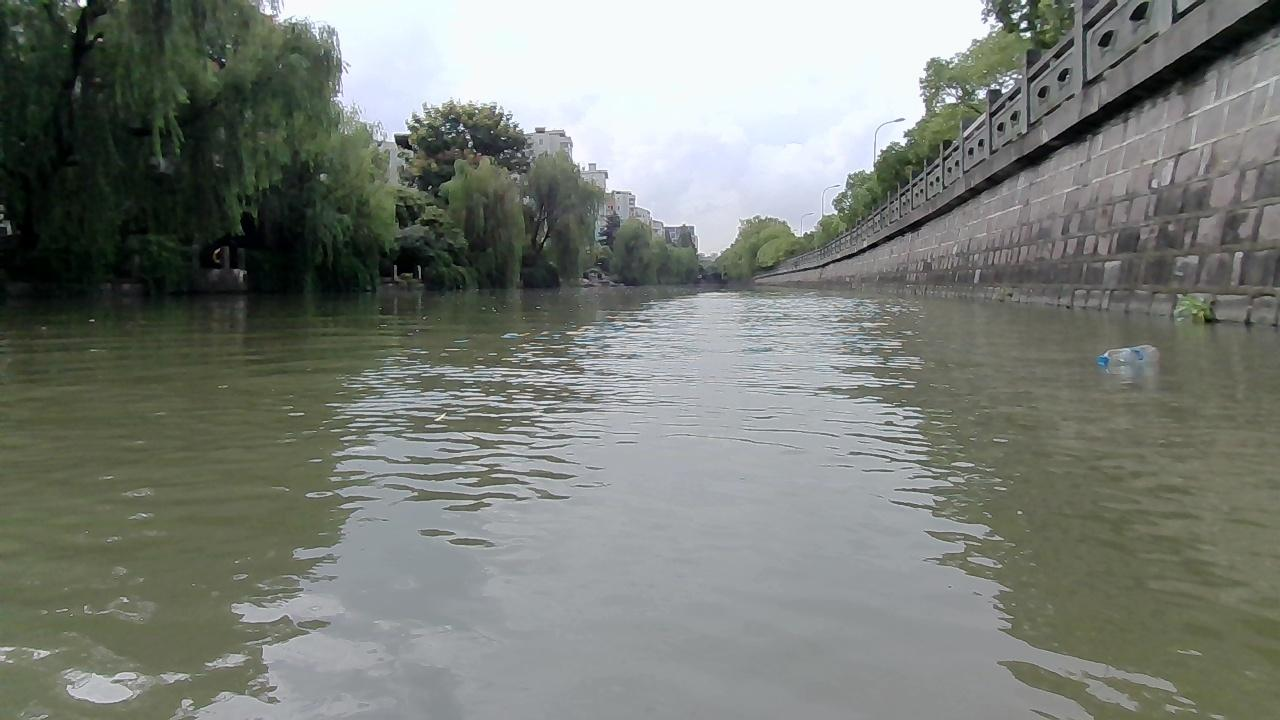bottle: (1096, 343, 1160, 365)
